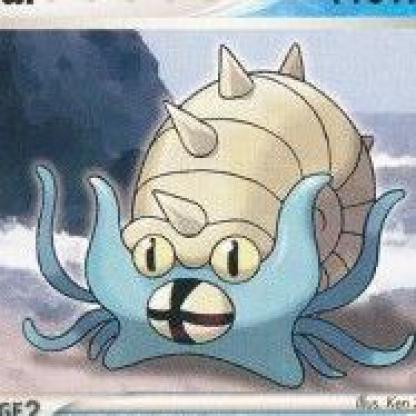Omastar: (15, 57, 409, 395)
